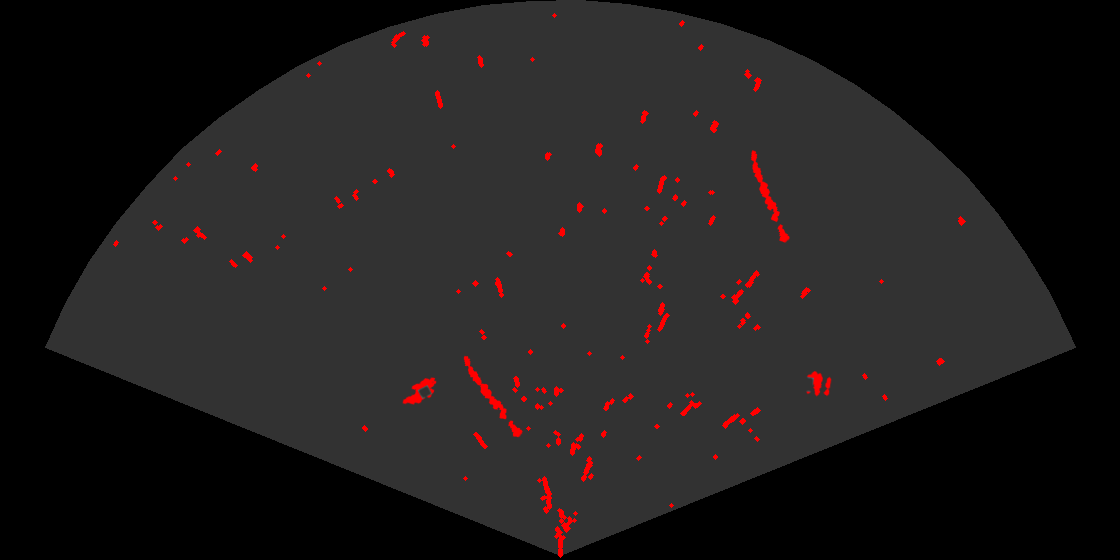AUV: (401, 376, 438, 406)
ball: (805, 370, 833, 398)
chain: (462, 354, 524, 439), (749, 149, 791, 245)
